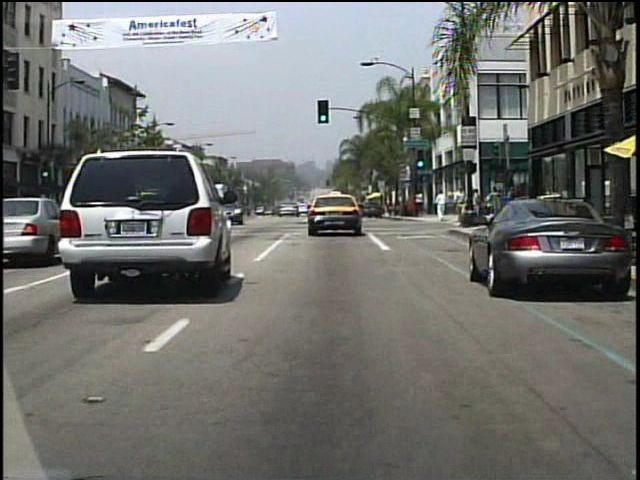person: (484, 188, 503, 227), (469, 188, 485, 227), (453, 186, 466, 227), (434, 189, 447, 222), (416, 191, 426, 217)
